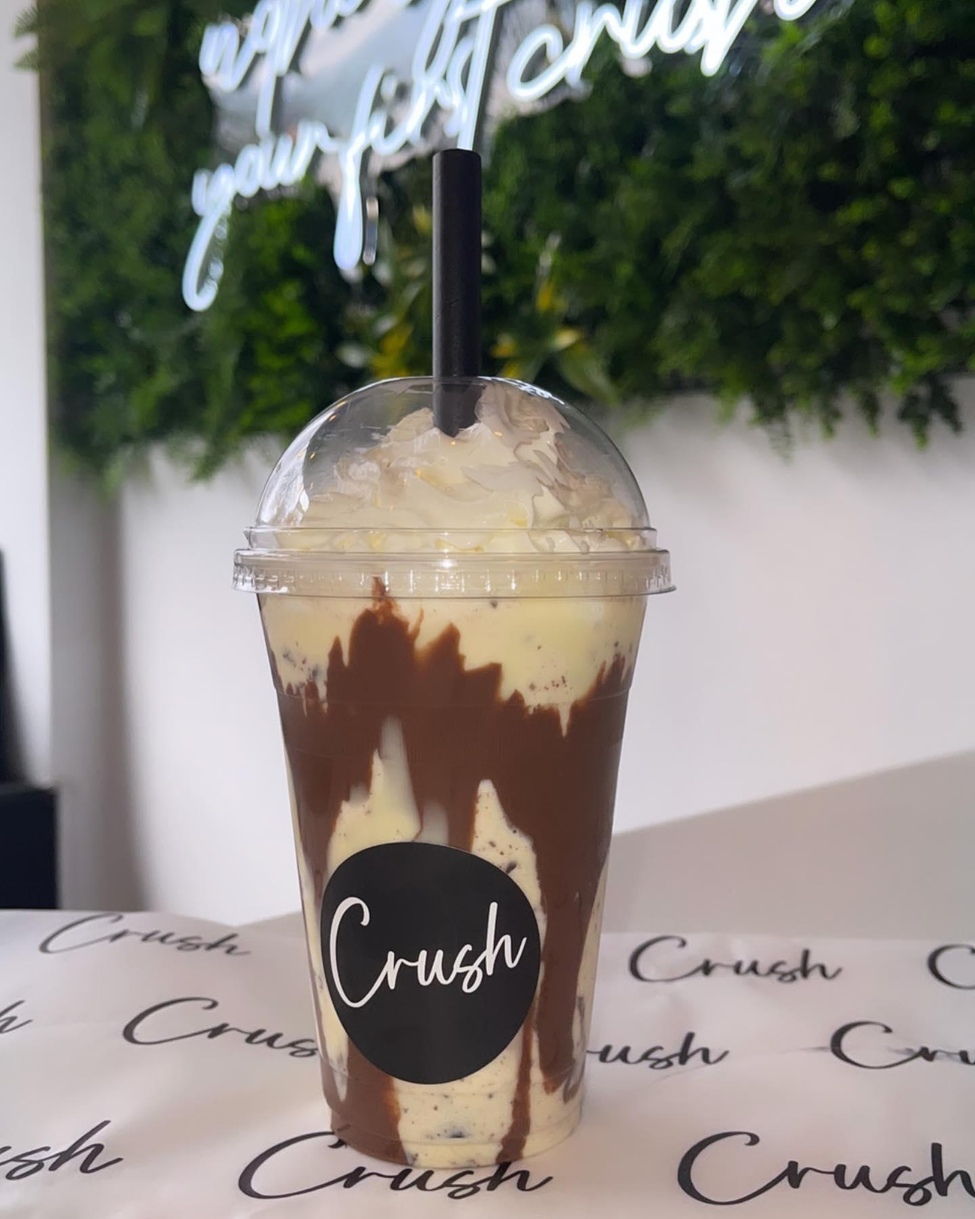cup-disposable: (222, 364, 678, 1185)
